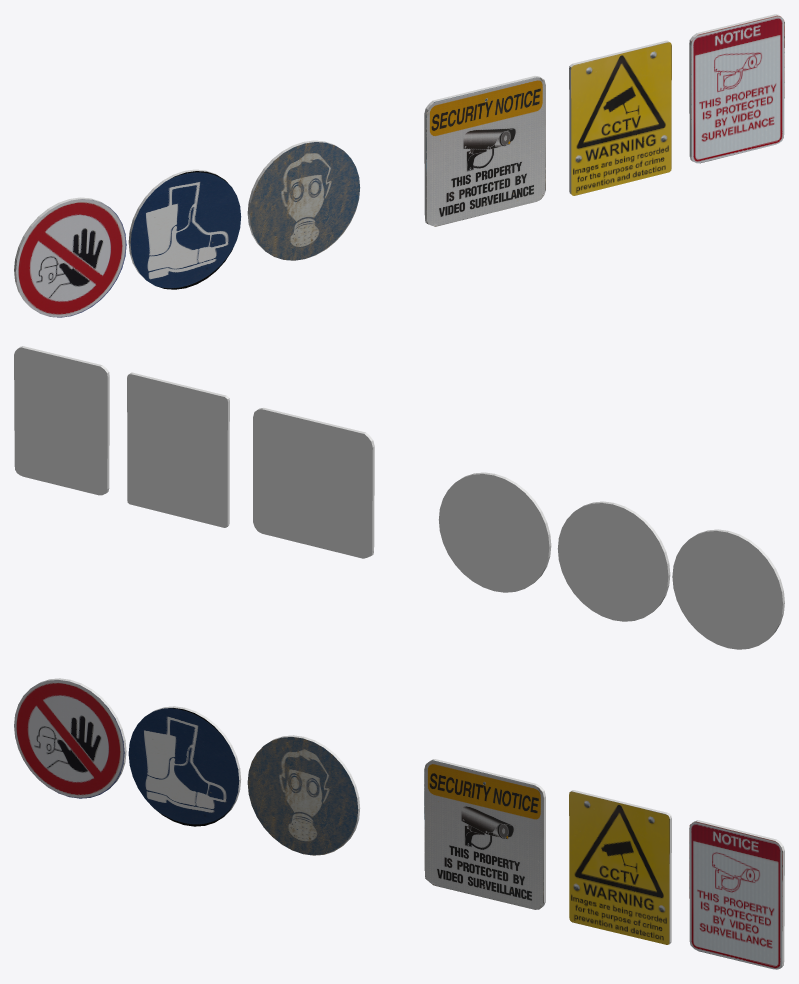
File: señales11.fbx
3 views of the same model, one above another, from view 1: azimuth 30°, elevation 25°; view 2: azimuth 150°, elevation 25°; view 3: azimuth 330°, elevation 25° (orthographic).
Parts seen in each view (by area): view 1: Object_3, Object_4, Object_2, Object_5, Object_6, Object_7, Object_8; view 2: Object_8; view 3: Object_3, Object_4, Object_2, Object_7, Object_5, Object_6, Object_8.
Part boxes in pixels (bbox=[...]): Object_3: bbox=[426, 77, 545, 226]; Object_4: bbox=[571, 42, 671, 195]; Object_2: bbox=[691, 15, 784, 163]; Object_5: bbox=[249, 142, 360, 260]; Object_6: bbox=[130, 171, 241, 289]; Object_7: bbox=[16, 199, 126, 317]; Object_8: bbox=[14, 14, 779, 308]; Object_8: bbox=[14, 346, 784, 649]; Object_3: bbox=[424, 760, 543, 909]; Object_4: bbox=[569, 791, 669, 944]; Object_2: bbox=[689, 821, 782, 969]; Object_7: bbox=[14, 680, 124, 798]; Object_5: bbox=[247, 737, 358, 855]; Object_6: bbox=[128, 708, 239, 826]; Object_8: bbox=[32, 678, 784, 968].
Size of the model in its own units: 292 by 47.59 by 1.3.
